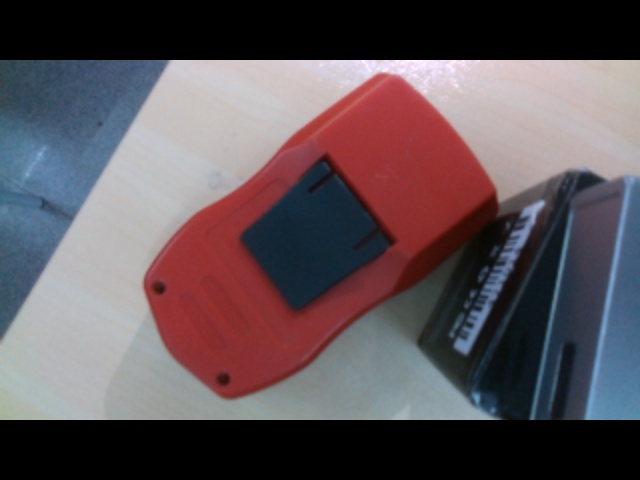Multimeter: (143, 72, 499, 401)
Screw holes: (215, 370, 232, 386), (151, 281, 167, 297)
